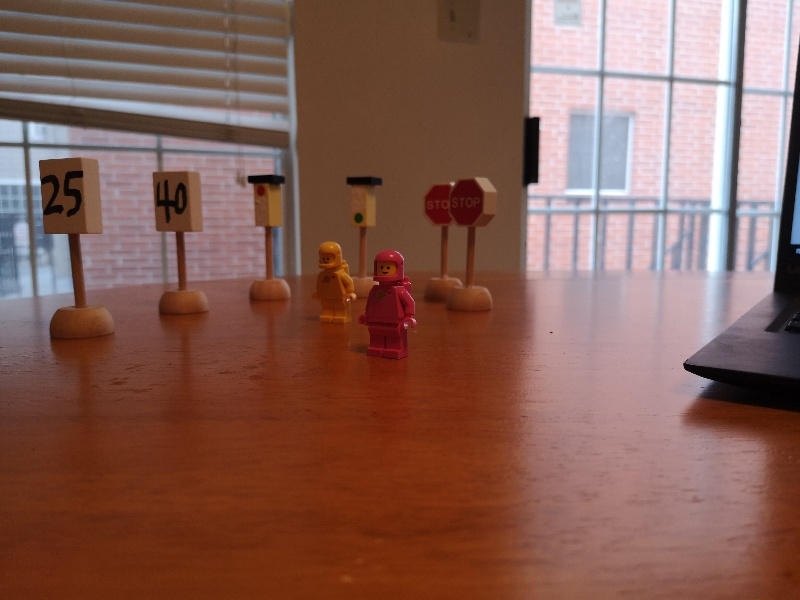Green Traffic Light: (345, 176, 382, 228)
Person: (364, 251, 418, 364), (312, 241, 357, 325)
Red Traffic Light: (245, 174, 285, 228)
Speed Limit 25: (38, 157, 105, 236)
Speed Limit 40: (150, 170, 206, 234)
Stop Sign: (451, 177, 498, 229), (421, 184, 450, 226)
